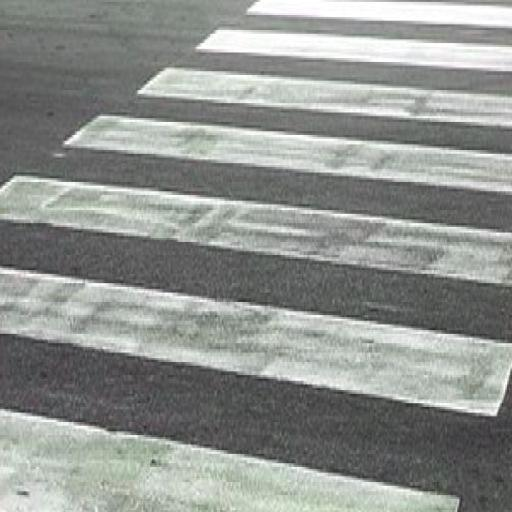crosswalk: (1, 170, 511, 434)
